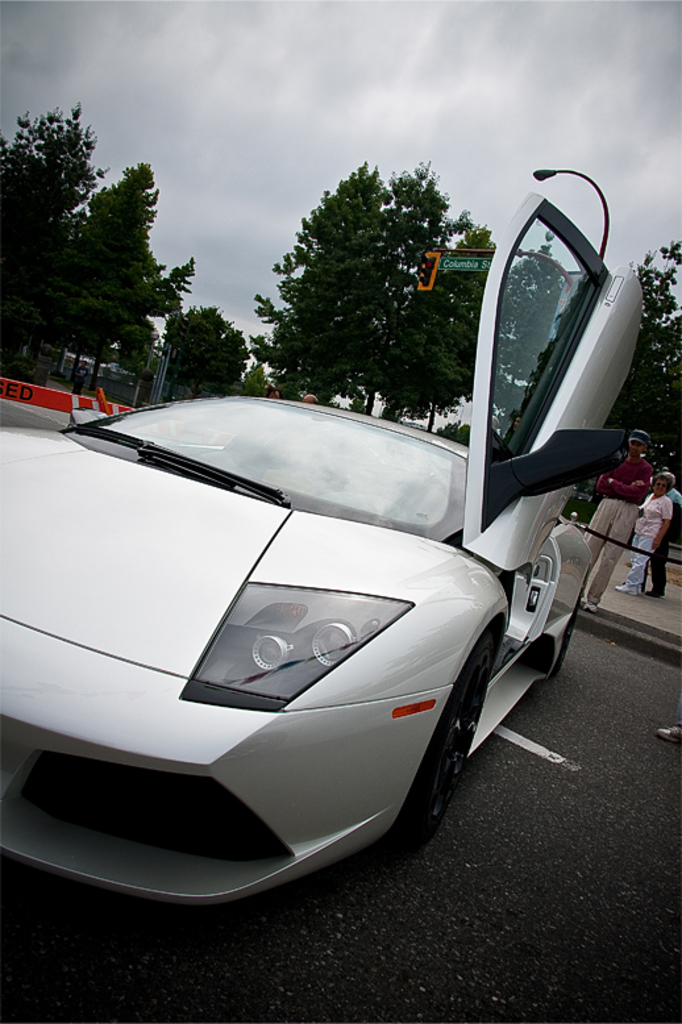Car: (0, 168, 642, 906)
